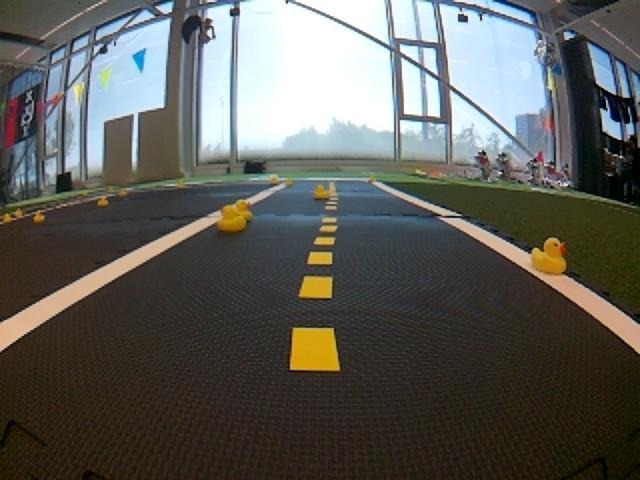Duckies: (532, 238, 567, 273), (218, 205, 250, 231), (229, 200, 252, 220), (312, 184, 330, 198), (33, 212, 45, 223), (3, 214, 14, 224), (14, 208, 24, 218), (98, 197, 108, 206), (269, 174, 279, 183), (283, 178, 292, 185), (178, 181, 186, 188), (119, 190, 128, 196), (369, 176, 376, 181)
